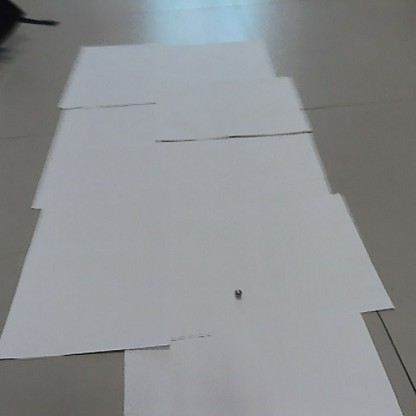ironball: (232, 285, 242, 298)
